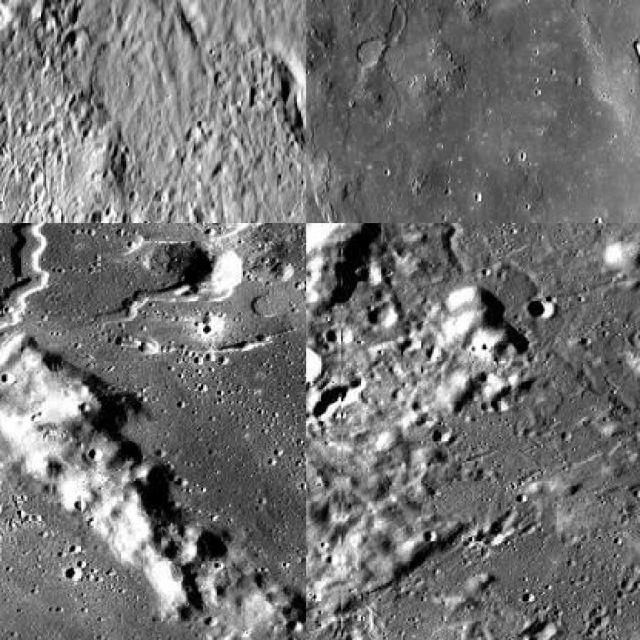rille: (408, 223, 638, 619), (0, 223, 174, 639), (306, 9, 639, 222), (36, 0, 304, 222)
